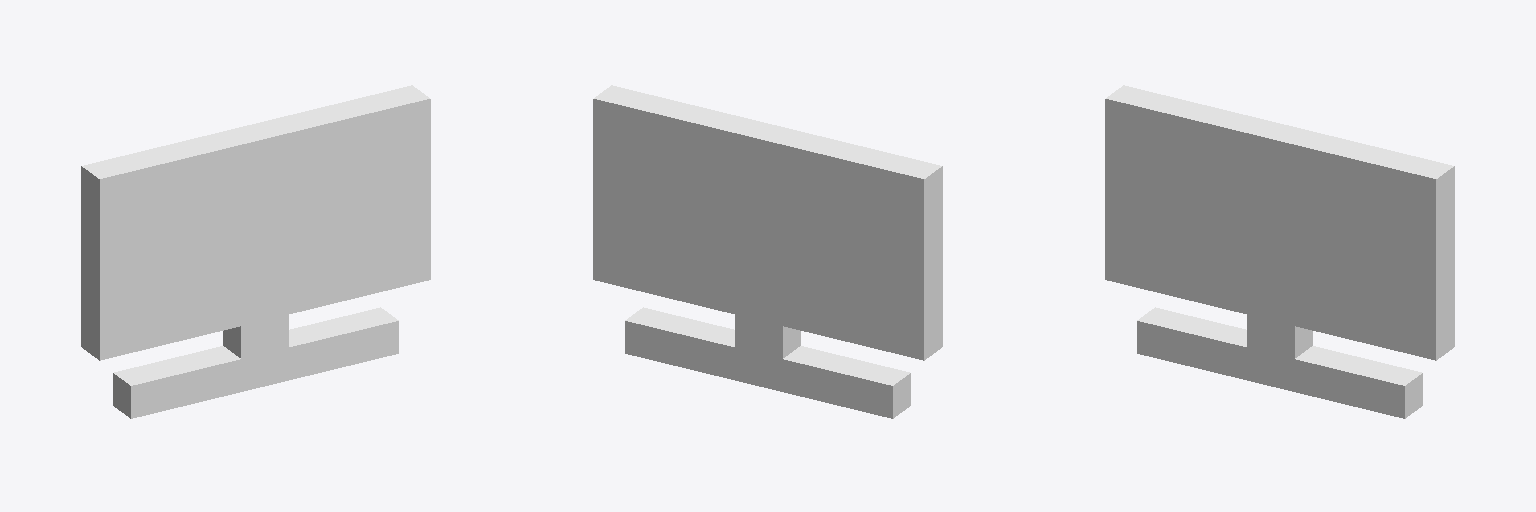
Rendered from tv-trump.obj.
3 renders of one model, left to right at view 1: azimuth 30°, elevation 25°; view 2: azimuth 150°, elevation 25°; view 3: azimuth 330°, elevation 25°, orthographic.
Parts seen in each view (by area): view 1: tv:trump; view 2: tv:trump; view 3: tv:trump.
Boxes of the visible parts, x1,y1,x2,y2 form: tv:trump: [81, 85, 430, 418]; tv:trump: [593, 85, 942, 418]; tv:trump: [1105, 85, 1454, 418].
Size of the model in its own units: 21 by 15 by 2.